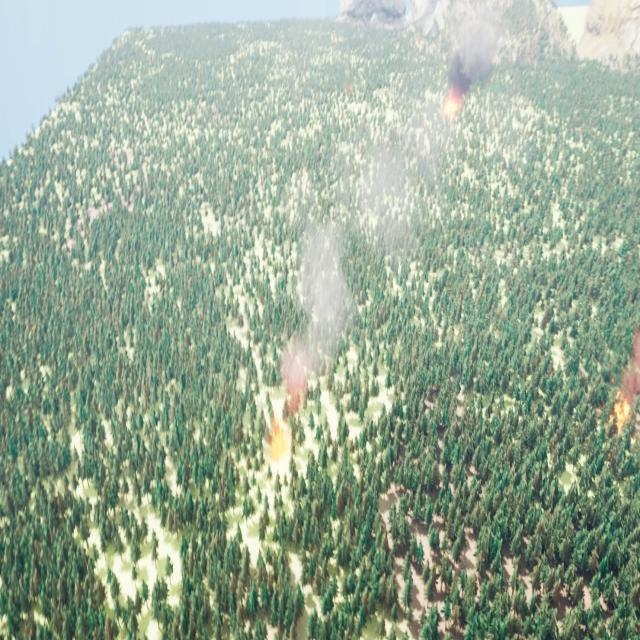fire: (266, 420, 291, 460), (612, 389, 630, 427), (442, 91, 463, 115)
smoke: (278, 214, 352, 411), (446, 24, 498, 92), (626, 329, 640, 394)
